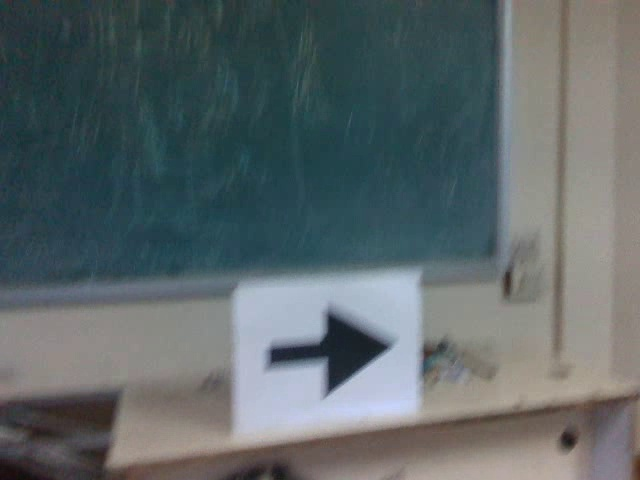Right: (261, 301, 402, 401)
